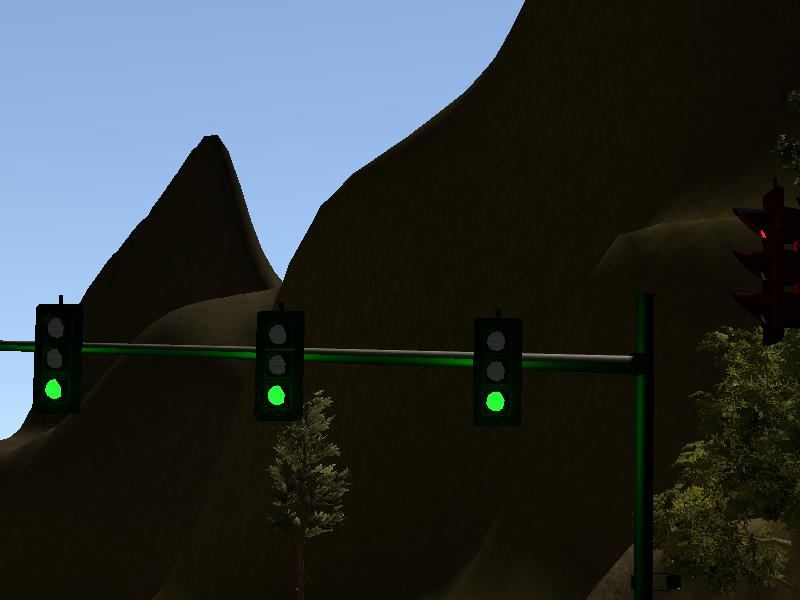Green: (256, 312, 301, 420), (34, 304, 79, 411), (476, 318, 520, 423)
